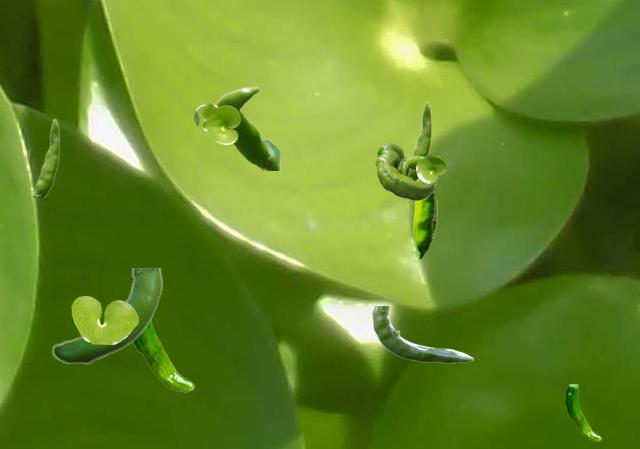green_chili: (51, 268, 161, 364), (372, 306, 472, 362), (215, 86, 279, 169), (133, 323, 193, 391), (375, 143, 436, 199), (33, 118, 59, 196), (565, 384, 600, 440), (409, 101, 431, 179), (413, 188, 436, 258)
